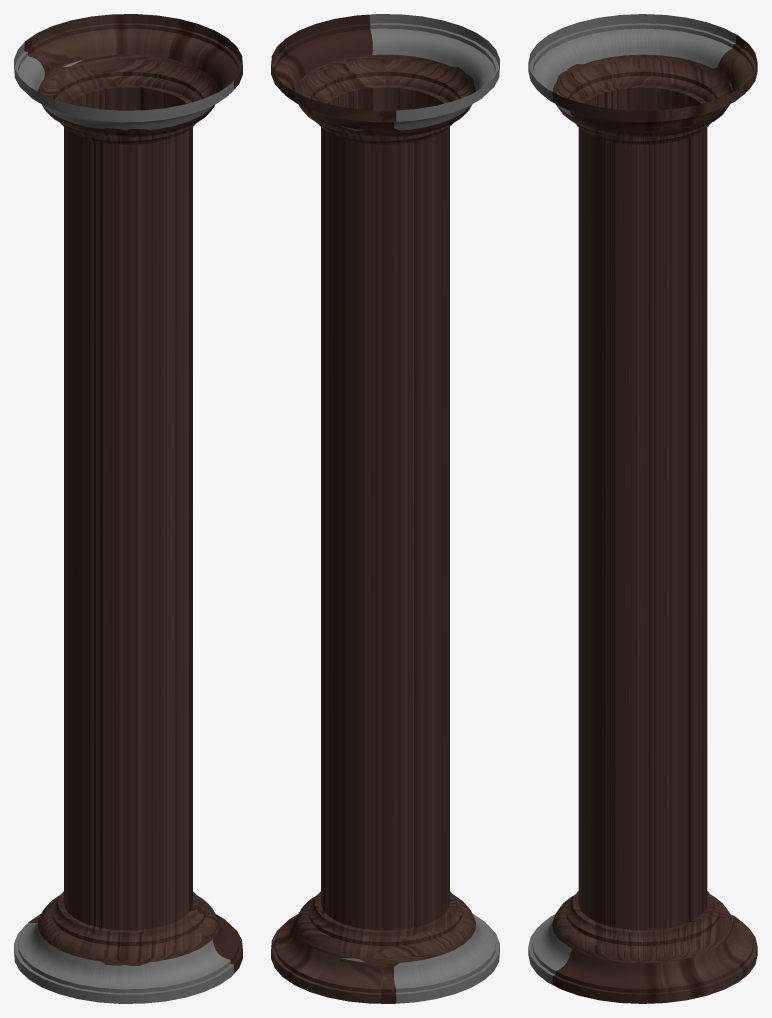
The model's file is CircularColumns 1.obj.
3 views of the same model, side by side, from view 1: azimuth 30°, elevation 25°; view 2: azimuth 150°, elevation 25°; view 3: azimuth 270°, elevation 25° (orthographic).
Parts seen in each view (by area): view 1: Cylinder; view 2: Cylinder; view 3: Cylinder.
Part boxes in pixels (x1,y1,x2,y2): Cylinder: [14, 14, 242, 1003]; Cylinder: [271, 14, 499, 1003]; Cylinder: [528, 14, 757, 1003].
Bounding box in the file's own units: 1.39 × 5.97 × 1.39.
